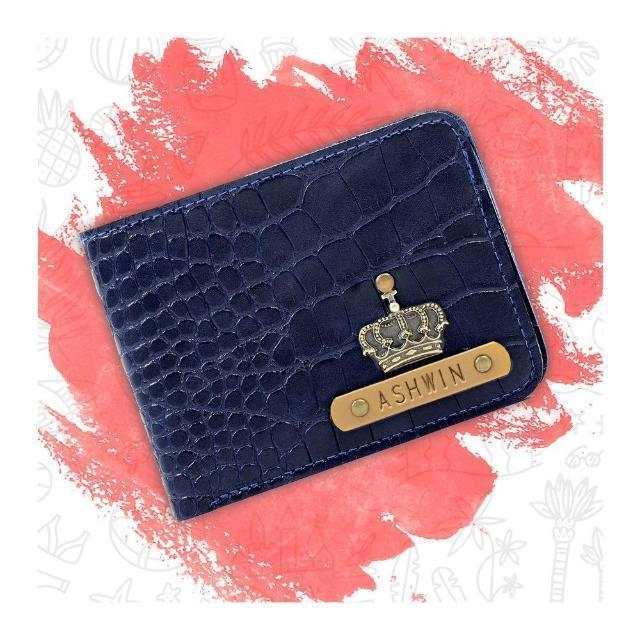wallet: (77, 109, 549, 524)
